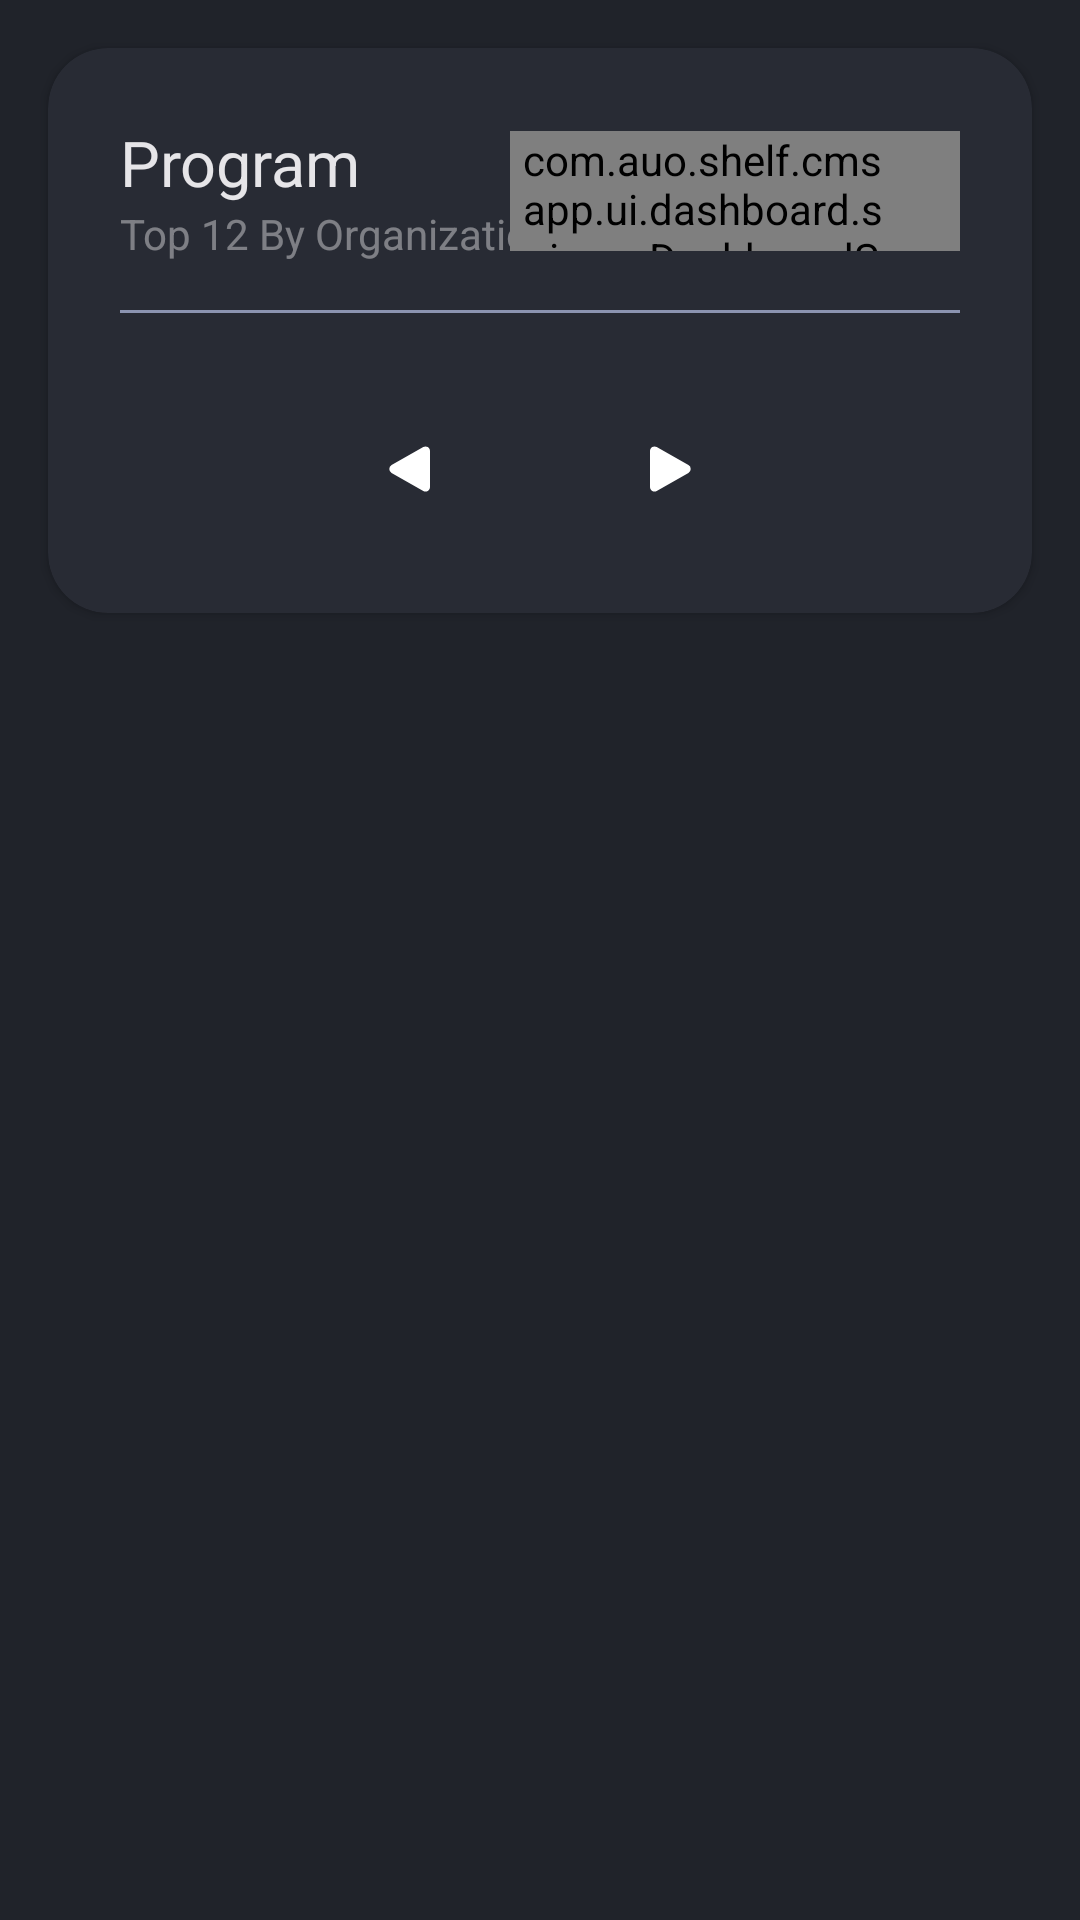

Where icons sit on this 1080 x 1920 app screen, as (x1, y1, x2, y2):
arrow left: (389, 446, 430, 492)
arrow right: (650, 446, 691, 492)
